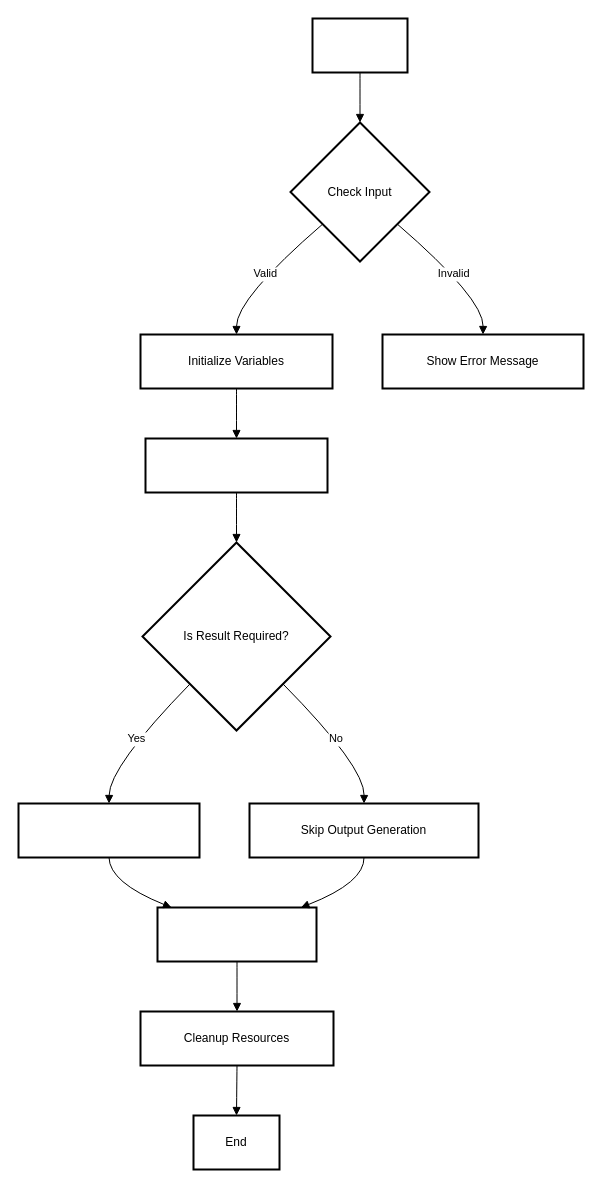
Image size: 601x1187. Some labels were removed from this diagram. The centre of each missing label's shape, as x and y in pixels:
Display Result: pixel 236 934
Generate Output: pixel 108 830
Run Main Process: pixel 236 465
Start: pixel 359 45
